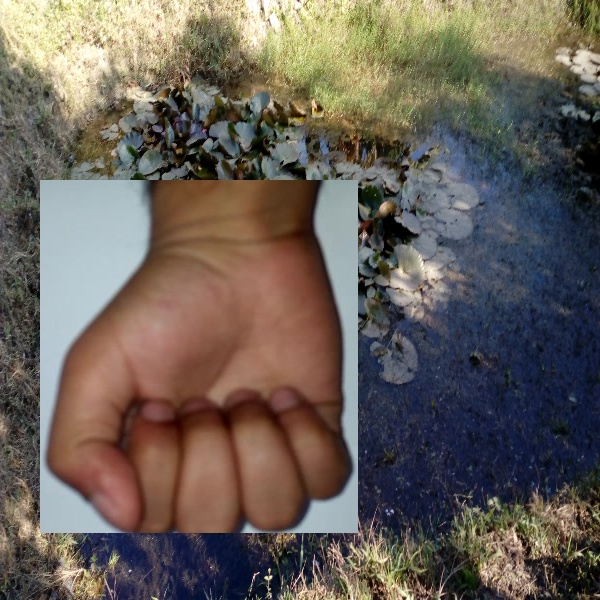A: (40, 180, 358, 533)
